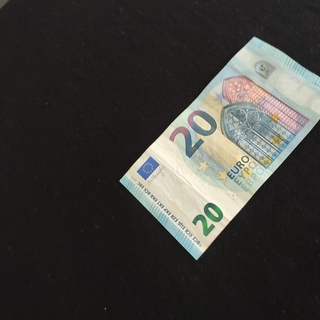20EUROFront: (119, 35, 320, 261)
